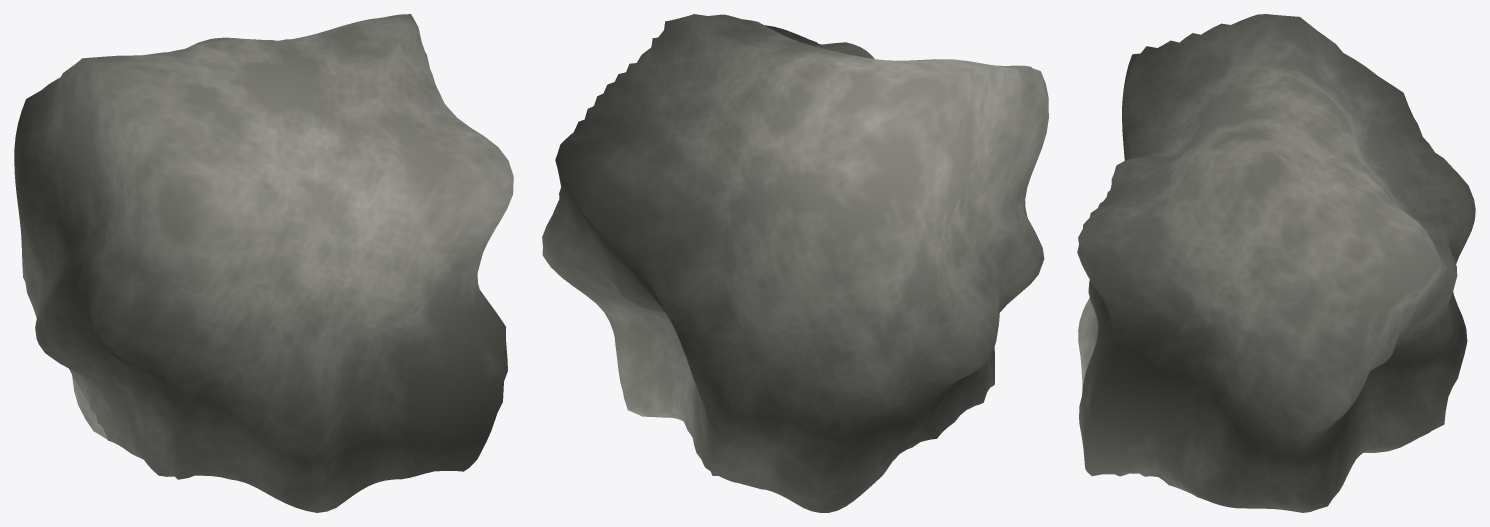
The model's file is asteroid-chunk.glb.
3 views of the same model, side by side, from view 1: azimuth 30°, elevation 25°; view 2: azimuth 150°, elevation 25°; view 3: azimuth 270°, elevation 25° (orthographic). The views are drawn at different scales.
Visible parts, largest first — view 1: asteroid_4001; view 2: asteroid_4001; view 3: asteroid_4001.
Boxes of the visible parts, x1=… form: asteroid_4001: x1=14, y1=14, x2=513, y2=512; asteroid_4001: x1=542, y1=14, x2=1048, y2=512; asteroid_4001: x1=1077, y1=14, x2=1475, y2=512.
Size of the model in its own units: 42.51 by 38.85 by 37.34.
Materials: 1 (1 with a texture image).
